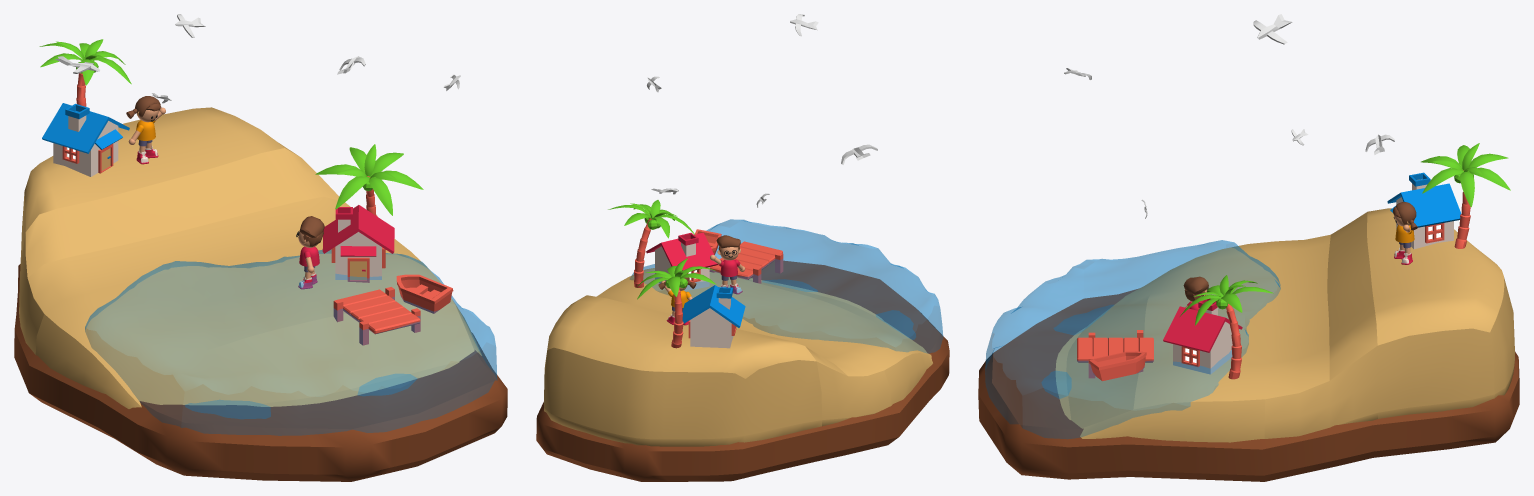
3 renders of one model, left to right at view 1: azimuth 30°, elevation 25°; view 2: azimuth 150°, elevation 25°; view 3: azimuth 270°, elevation 25°, orthographic. The views are drawn at different scales.
Visible parts, largest first — view 1: Plane.015, Plane.016, Plane.013, Plane.001, Cube.055, Cube.015, Cube.004, Cube.033, Plane.006, Cube.020, Cube.003, Cube.005; view 2: Plane.015, Plane.013, Plane.016, Cube.020, Cube.015, Cube.004, Cube.055, Plane.006, Plane.001, Cube.003, Cylinder.001, Cylinder; view 3: Plane.015, Plane.016, Plane.013, Plane.006, Cube.004, Cube.015, Cube.055, Cube.003, Cube.033, Plane.001, Cylinder.001.
Part boxes in pixels (bbox=[...]): Plane.015: bbox=[19, 107, 481, 408]; Plane.016: bbox=[85, 249, 497, 435]; Plane.013: bbox=[14, 264, 507, 481]; Plane.001: bbox=[315, 144, 423, 215]; Cube.055: bbox=[336, 289, 420, 334]; Cube.015: bbox=[42, 103, 129, 153]; Cube.004: bbox=[322, 205, 394, 253]; Cube.033: bbox=[396, 274, 453, 313]; Plane.006: bbox=[39, 39, 131, 85]; Cube.020: bbox=[53, 121, 118, 176]; Cube.003: bbox=[335, 232, 381, 279]; Cube.005: bbox=[347, 257, 369, 282]; Plane.015: bbox=[544, 268, 932, 446]; Plane.013: bbox=[536, 260, 949, 481]; Plane.016: bbox=[630, 219, 943, 353]; Cube.020: bbox=[690, 308, 733, 348]; Cube.015: bbox=[682, 285, 745, 327]; Cube.004: bbox=[646, 232, 717, 270]; Cube.055: bbox=[709, 241, 782, 279]; Plane.006: bbox=[637, 258, 716, 299]; Plane.001: bbox=[608, 200, 695, 238]; Cube.003: bbox=[655, 246, 709, 291]; Cylinder.001: bbox=[634, 218, 651, 287]; Cylinder: bbox=[671, 288, 683, 348]; Plane.015: bbox=[1055, 208, 1514, 442]; Plane.016: bbox=[985, 240, 1280, 438]; Plane.013: bbox=[978, 288, 1519, 481]; Plane.006: bbox=[1421, 143, 1510, 207]; Cube.004: bbox=[1163, 306, 1242, 352]; Cube.015: bbox=[1387, 183, 1461, 227]; Cube.055: bbox=[1077, 337, 1153, 362]; Cube.003: bbox=[1173, 321, 1232, 374]; Cube.033: bbox=[1089, 351, 1146, 381]; Plane.001: bbox=[1180, 275, 1273, 325]; Cylinder.001: bbox=[1226, 304, 1241, 379].
Size of the model in its own units: 0.4186 by 0.4039 by 0.5565.
